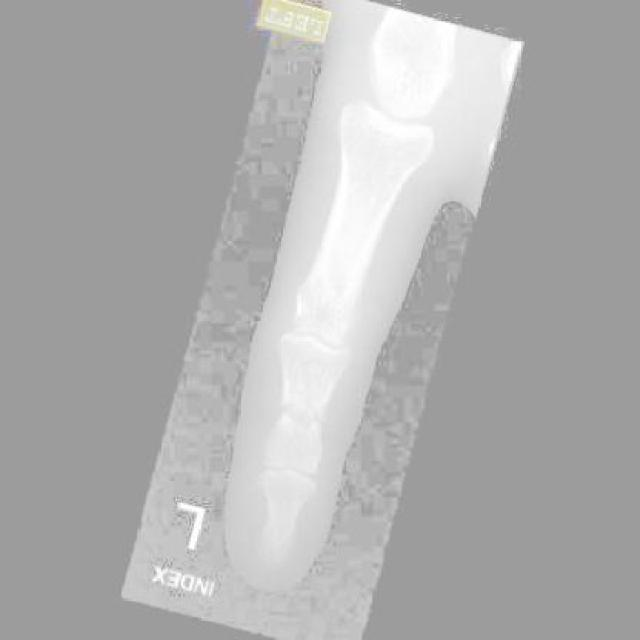bone: (267, 383, 335, 452)
